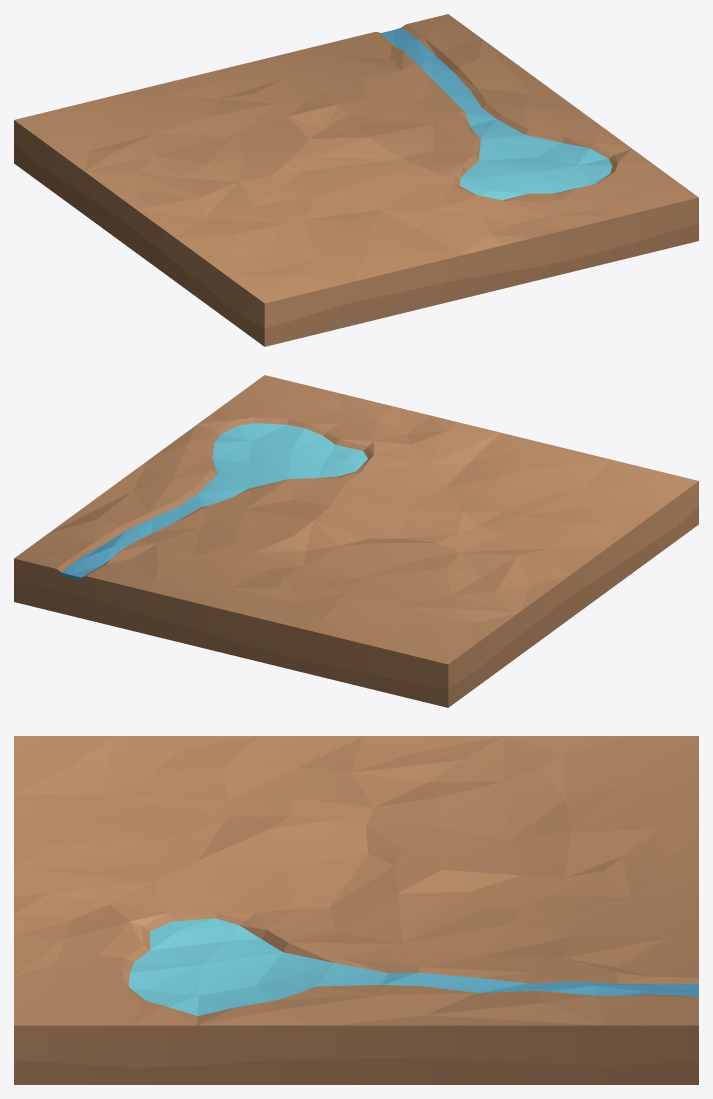
The model's file is land autumn harvest.fbx.
The picture shows the model from 3 angles, top to bottom: view 1: azimuth 30°, elevation 25°; view 2: azimuth 150°, elevation 25°; view 3: azimuth 270°, elevation 25°; orthographic projection. The views are drawn at different scales.
Parts seen in each view (by area): view 1: land autumn harvest; view 2: land autumn harvest; view 3: land autumn harvest.
Boxes of the visible parts, <box> form: land autumn harvest: <box>14,14,698,346</box>; land autumn harvest: <box>14,375,698,707</box>; land autumn harvest: <box>14,736,698,1084</box>.
Bounding box in the file's own units: 4500 × 469 × 4500.
